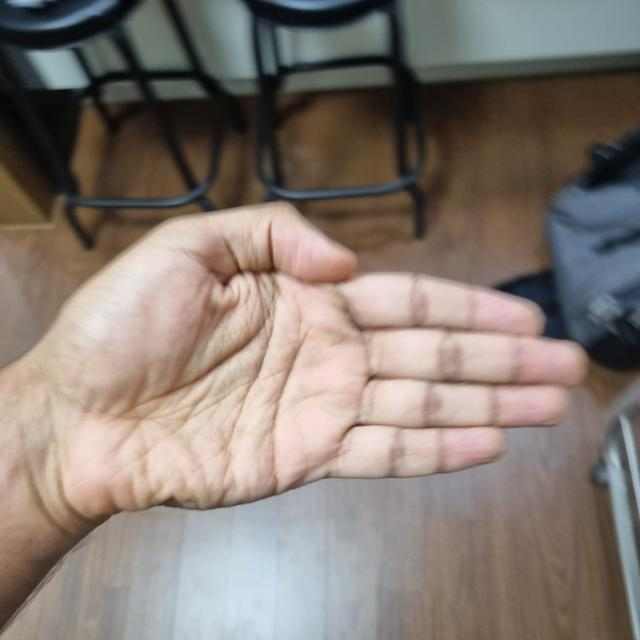Paper: (9, 209, 572, 512)
